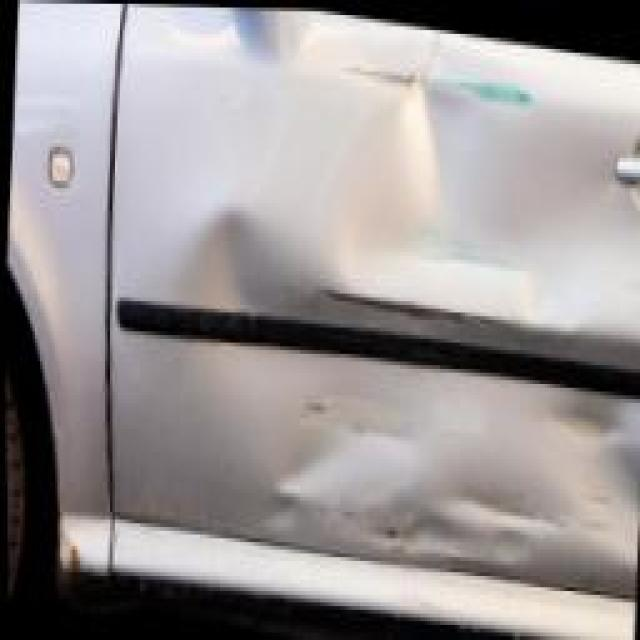Door: (132, 11, 640, 612)
